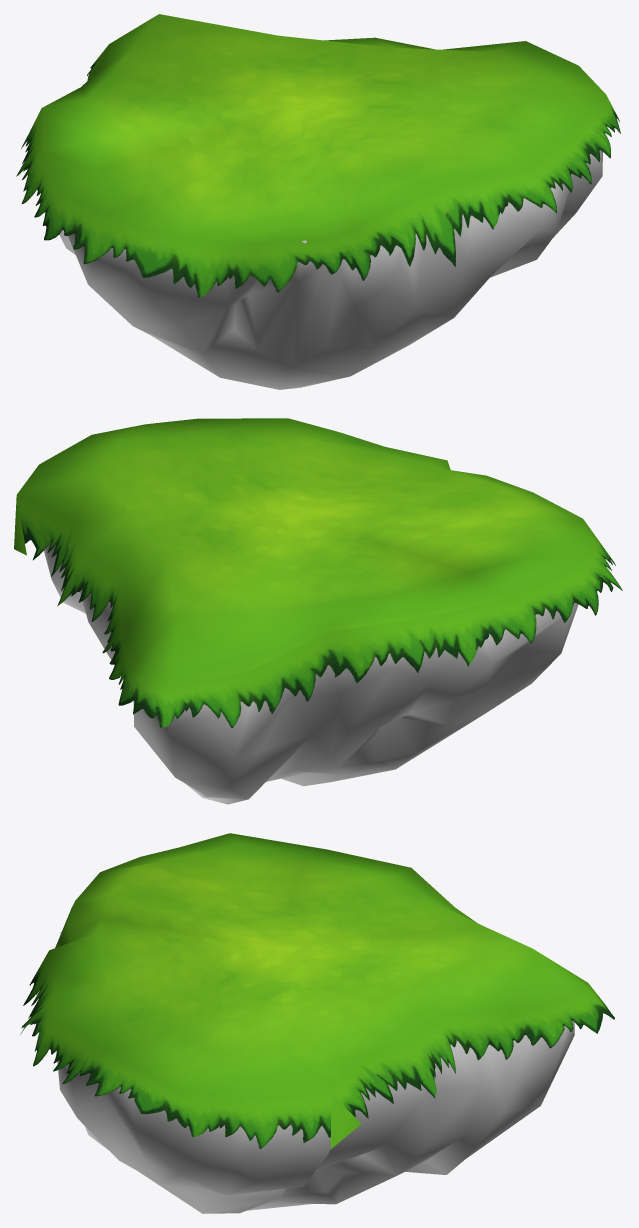
File: Island_Small_04.fbx
3 renders of one model, top to bottom at view 1: azimuth 30°, elevation 25°; view 2: azimuth 150°, elevation 25°; view 3: azimuth 270°, elevation 25°, orthographic.
Parts seen in each view (by area): view 1: Island_Small_04; view 2: Island_Small_04; view 3: Island_Small_04.
Boxes of the visible parts, left/top/right/bottom form: Island_Small_04: left=16, top=14, right=620, bottom=389; Island_Small_04: left=14, top=418, right=622, bottom=804; Island_Small_04: left=20, top=833, right=614, bottom=1213.
Bounding box in the file's own units: 933 × 411 × 886.
